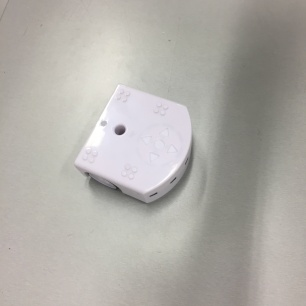thymio: (68, 80, 204, 211)
